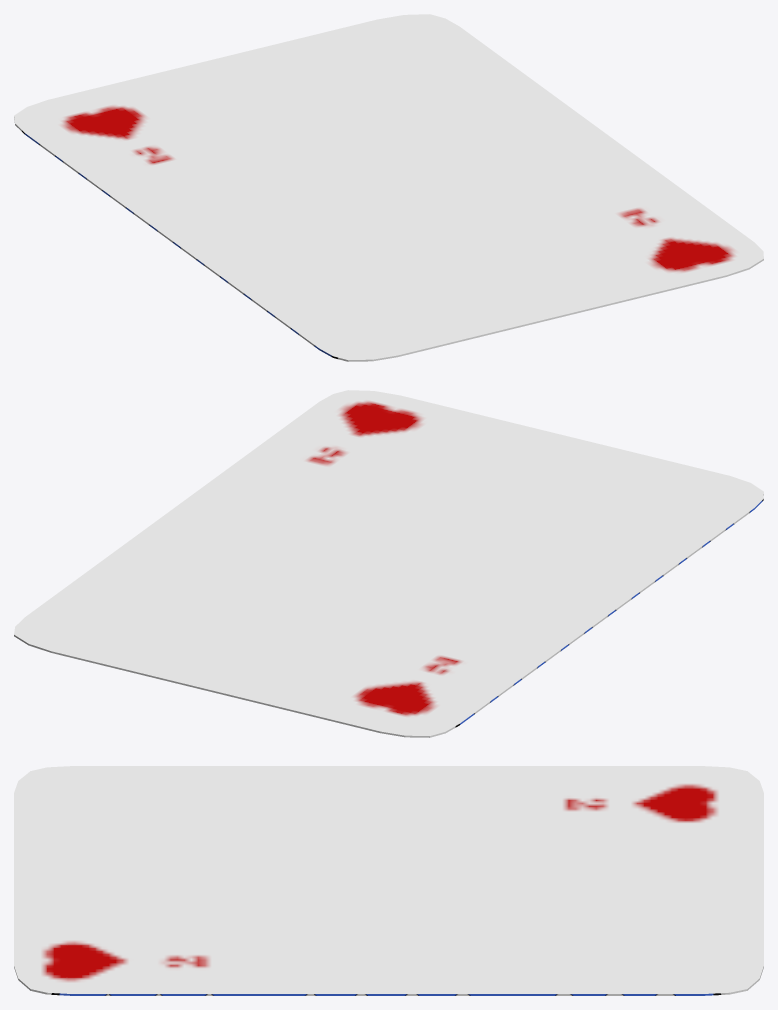
Rendered from CardBaseModel.fbx.
The picture shows the model from 3 angles, top to bottom: view 1: azimuth 30°, elevation 25°; view 2: azimuth 150°, elevation 25°; view 3: azimuth 270°, elevation 25°; orthographic projection. The views are drawn at different scales.
Visible parts, largest first — view 1: Pata4.020; view 2: Pata4.020; view 3: Pata4.020.
Part boxes in pixels (left/top/right/bottom): Pata4.020: left=14, top=14, right=763, bottom=361; Pata4.020: left=14, top=390, right=763, bottom=737; Pata4.020: left=14, top=766, right=763, bottom=995.
Size of the model in its own units: 6.4 by 0.024 by 8.9.
2 materials, 2 textured.
